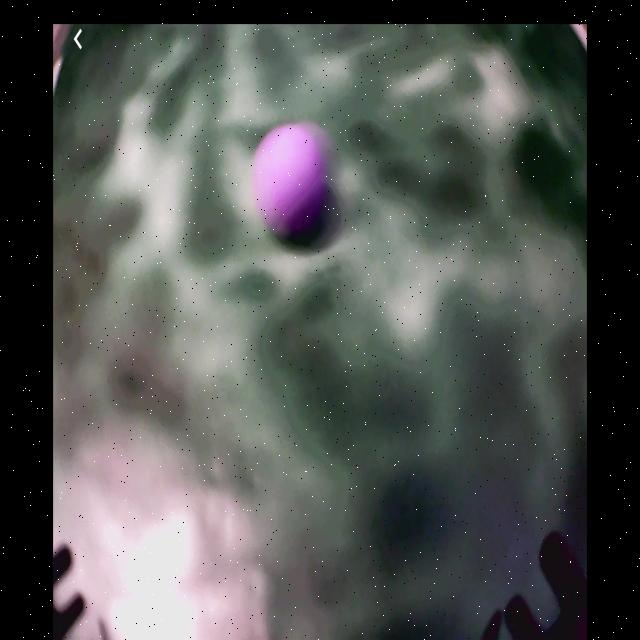ball: (258, 123, 323, 241)
